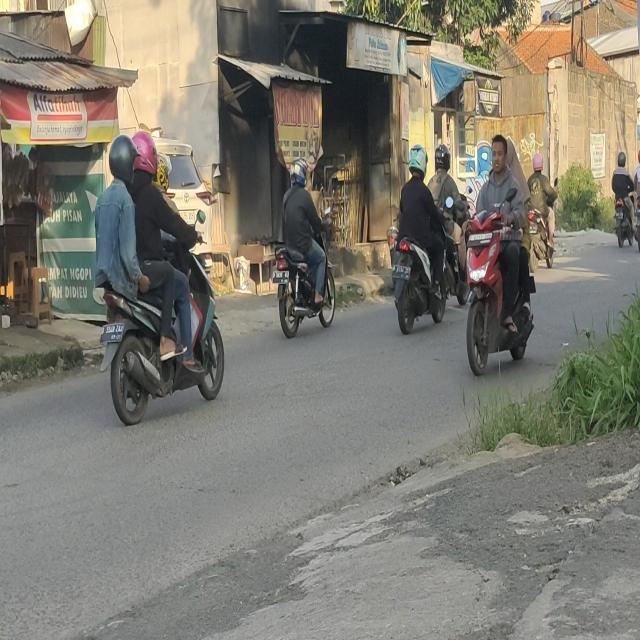helmet: (108, 134, 135, 184), (135, 128, 158, 181), (409, 144, 428, 182), (290, 159, 308, 187), (435, 144, 452, 173), (533, 152, 544, 174), (618, 152, 626, 167)
no-helmet: (491, 136, 508, 170), (506, 136, 518, 174)
